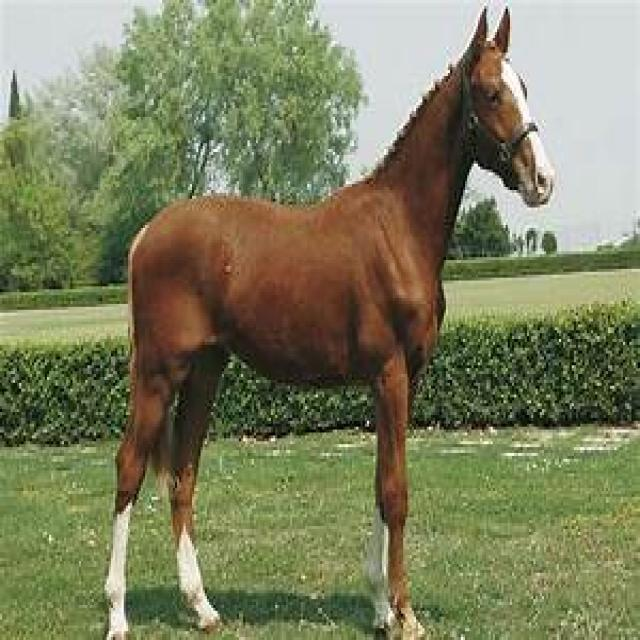horse: (105, 12, 557, 640)
